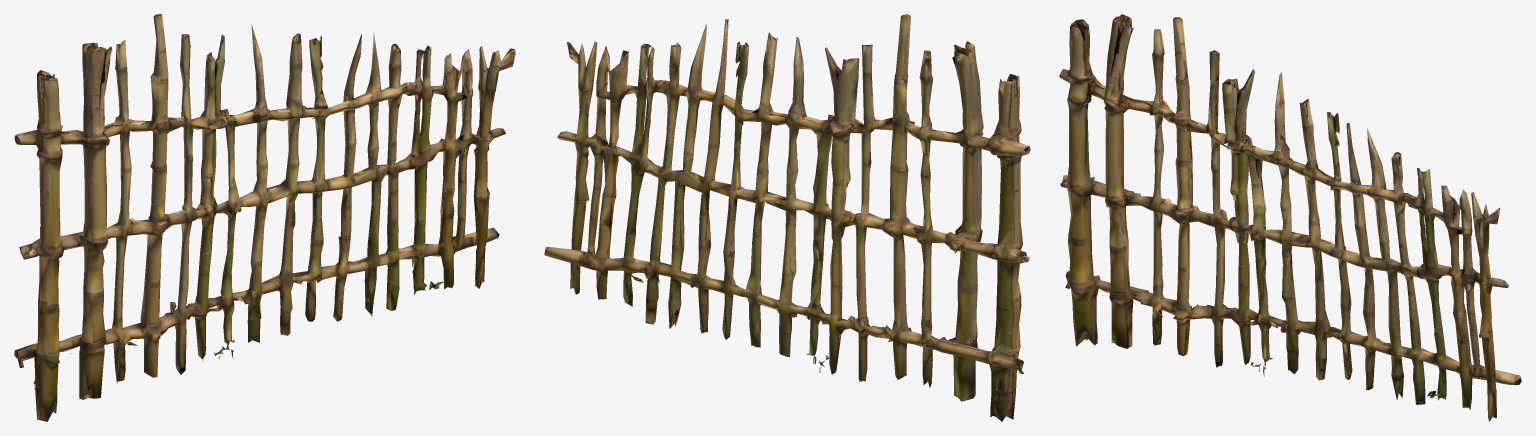
File: bamboo-fence.glb
3 renders of one model, left to right at view 1: azimuth 30°, elevation 25°; view 2: azimuth 150°, elevation 25°; view 3: azimuth 330°, elevation 25°, orthographic. The views are drawn at different scales.
Size of the model in its own units: 1.99 by 1.49 by 0.2075.
Materials: 1 (1 with a texture image).
